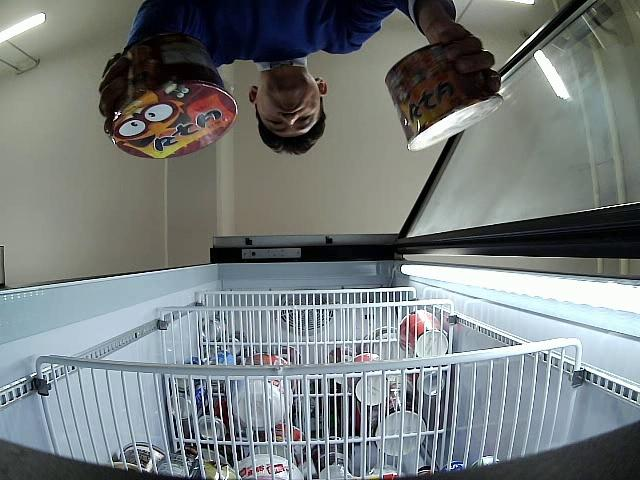00_hand: (418, 15, 501, 92), (99, 53, 133, 133)
05_nuguri_L: (111, 33, 238, 159), (385, 42, 504, 152)
